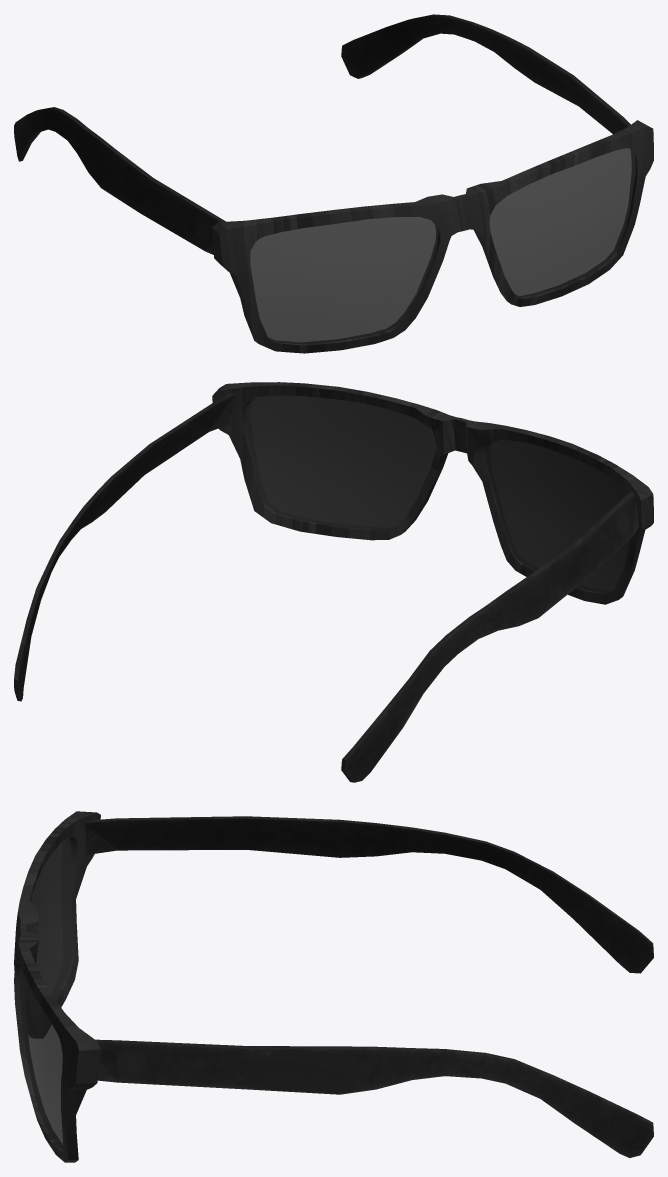
Rendered from glasses.glb.
3 views of the same model, one above another, from view 1: azimuth 30°, elevation 25°; view 2: azimuth 150°, elevation 25°; view 3: azimuth 270°, elevation 25° (orthographic). The views are drawn at different scales.
Parts seen in each view (by area): view 1: Glasses; view 2: Glasses; view 3: Glasses.
Boxes of the visible parts, x1,y1,x2,y2 form: Glasses: (14,14,653,353); Glasses: (14,382,653,782); Glasses: (14,811,653,1162).
Bounding box in the file's own units: 20.67 × 6.34 × 23.12.
2 materials, 2 textured.
